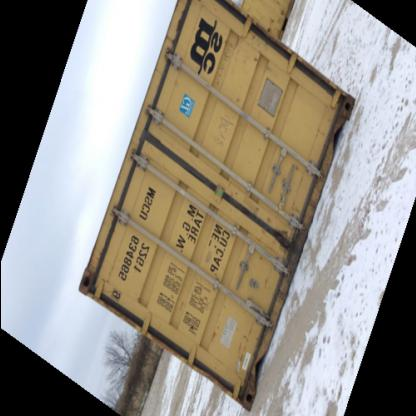Damage: (211, 26, 238, 92), (209, 110, 238, 152), (74, 258, 99, 300), (232, 322, 250, 372), (324, 92, 346, 130), (202, 314, 222, 350)
